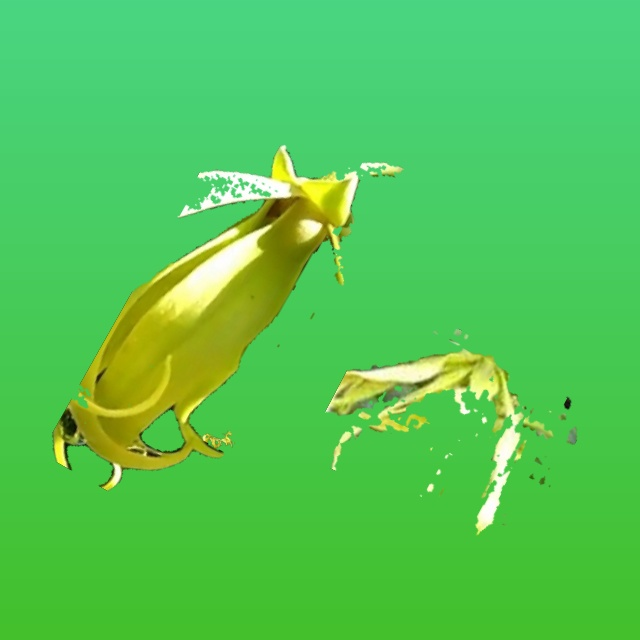ylang-ylang: (52, 145, 403, 490), (325, 329, 576, 534), (202, 431, 233, 451)
